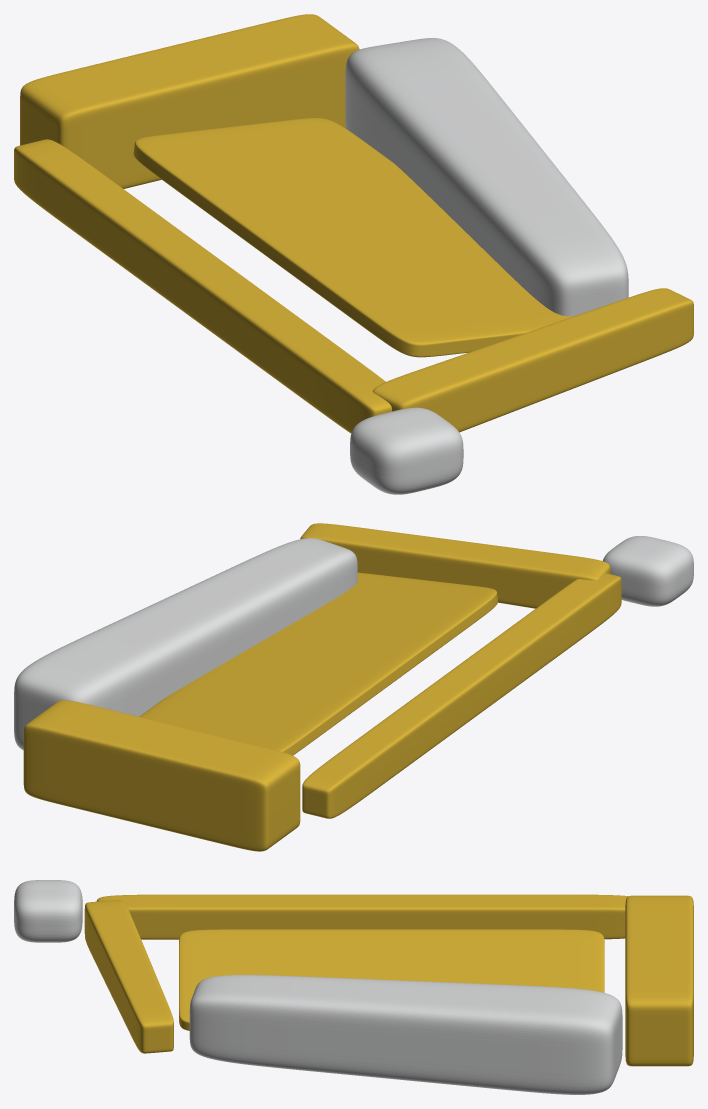
Rendered from concert_harp_sq.glb.
The picture shows the model from 3 angles, top to bottom: view 1: azimuth 30°, elevation 25°; view 2: azimuth 150°, elevation 25°; view 3: azimuth 270°, elevation 25°; orthographic projection. The views are drawn at different scales.
Parts seen in each view (by area): view 1: superquadric_4, superquadric_3, superquadric_0, superquadric_1, superquadric_2, superquadric_5; view 2: superquadric_4, superquadric_0, superquadric_3, superquadric_1, superquadric_2, superquadric_5; view 3: superquadric_3, superquadric_4, superquadric_1, superquadric_0, superquadric_2, superquadric_5.
Boxes of the visible parts, left/top/right/bottom form: superquadric_4: left=133, top=118, right=573, bottom=357; superquadric_3: left=345, top=38, right=628, bottom=316; superquadric_0: left=20, top=14, right=359, bottom=188; superquadric_1: left=14, top=139, right=391, bottom=433; superquadric_2: left=372, top=288, right=693, bottom=432; superquadric_5: left=350, top=407, right=463, bottom=494; superquadric_4: left=139, top=572, right=497, bottom=755; superquadric_0: left=23, top=700, right=300, bottom=851; superquadric_3: left=14, top=538, right=357, bottom=750; superquadric_1: left=302, top=573, right=621, bottom=818; superquadric_2: left=300, top=523, right=610, bottom=608; superquadric_5: left=603, top=536, right=693, bottom=606; superquadric_3: left=189, top=975, right=622, bottom=1094; superquadric_4: left=179, top=929, right=604, bottom=1030; superquadric_1: left=96, top=894, right=627, bottom=939; superquadric_0: left=625, top=895, right=693, bottom=1066; superquadric_2: left=84, top=900, right=173, bottom=1053; superquadric_5: left=14, top=880, right=82, bottom=942.
Size of the model in its own units: 0.579 by 0.1287 by 1.
